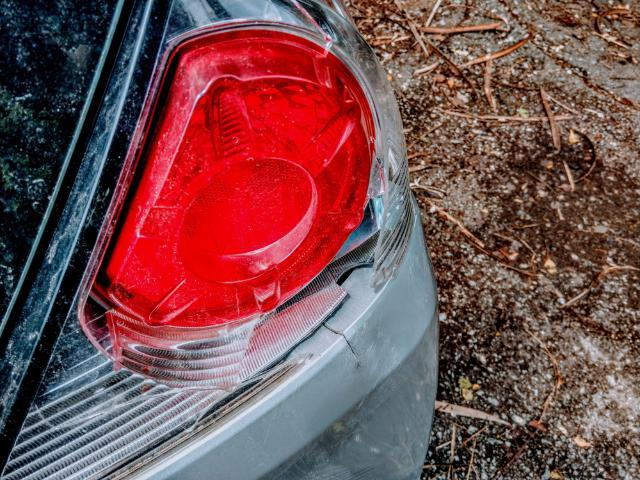crack: (321, 324, 362, 371)
lamp broken: (0, 23, 415, 480)
